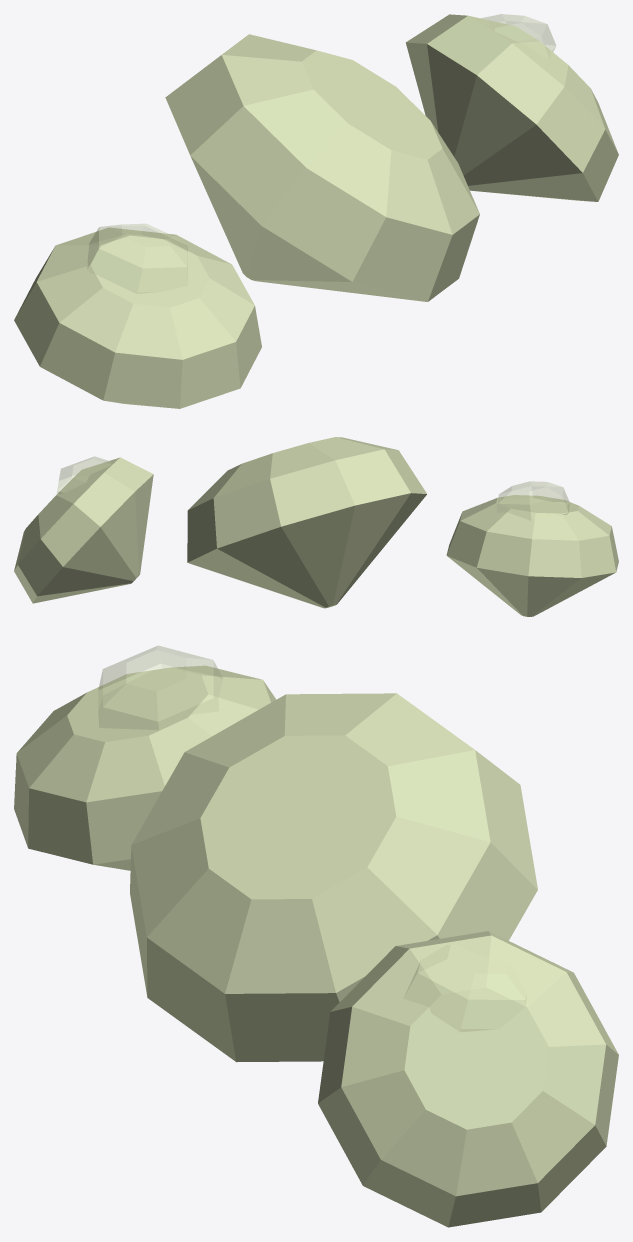
3 views of the same model, one above another, from view 1: azimuth 30°, elevation 25°; view 2: azimuth 150°, elevation 25°; view 3: azimuth 270°, elevation 25° (orthographic). The views are drawn at different scales.
Visible parts, largest first — view 1: TI032 / individually faceted stone 1, TI032 / individually faceted stone 0, TI032 / individually faceted stone 2, TI032 / inclusion colour facet, TI032 / inclusion colour facet.002; view 2: TI032 / individually faceted stone 1, TI032 / individually faceted stone 0, TI032 / individually faceted stone 2, TI032 / inclusion colour facet, TI032 / inclusion colour facet.002; view 3: TI032 / individually faceted stone 1, TI032 / individually faceted stone 2, TI032 / individually faceted stone 0, TI032 / inclusion colour facet, TI032 / inclusion colour facet.002.
Part boxes in pixels (x1,y1,x2,y2): TI032 / individually faceted stone 1: (165, 34, 479, 301); TI032 / individually faceted stone 0: (14, 227, 261, 408); TI032 / individually faceted stone 2: (405, 14, 618, 201); TI032 / inclusion colour facet: (87, 223, 187, 293); TI032 / inclusion colour facet.002: (481, 14, 556, 59); TI032 / individually faceted stone 1: (187, 437, 426, 608); TI032 / individually faceted stone 0: (446, 495, 618, 616); TI032 / individually faceted stone 2: (14, 457, 153, 603); TI032 / inclusion colour facet: (497, 481, 569, 520); TI032 / inclusion colour facet.002: (57, 456, 110, 493); TI032 / individually faceted stone 1: (130, 693, 537, 1062); TI032 / individually faceted stone 2: (318, 931, 618, 1227); TI032 / individually faceted stone 0: (14, 665, 276, 870); TI032 / inclusion colour facet: (98, 645, 222, 729); TI032 / inclusion colour facet.002: (404, 945, 526, 1031).
Size of the model in its own units: 2.54 by 0.8889 by 1.57.
